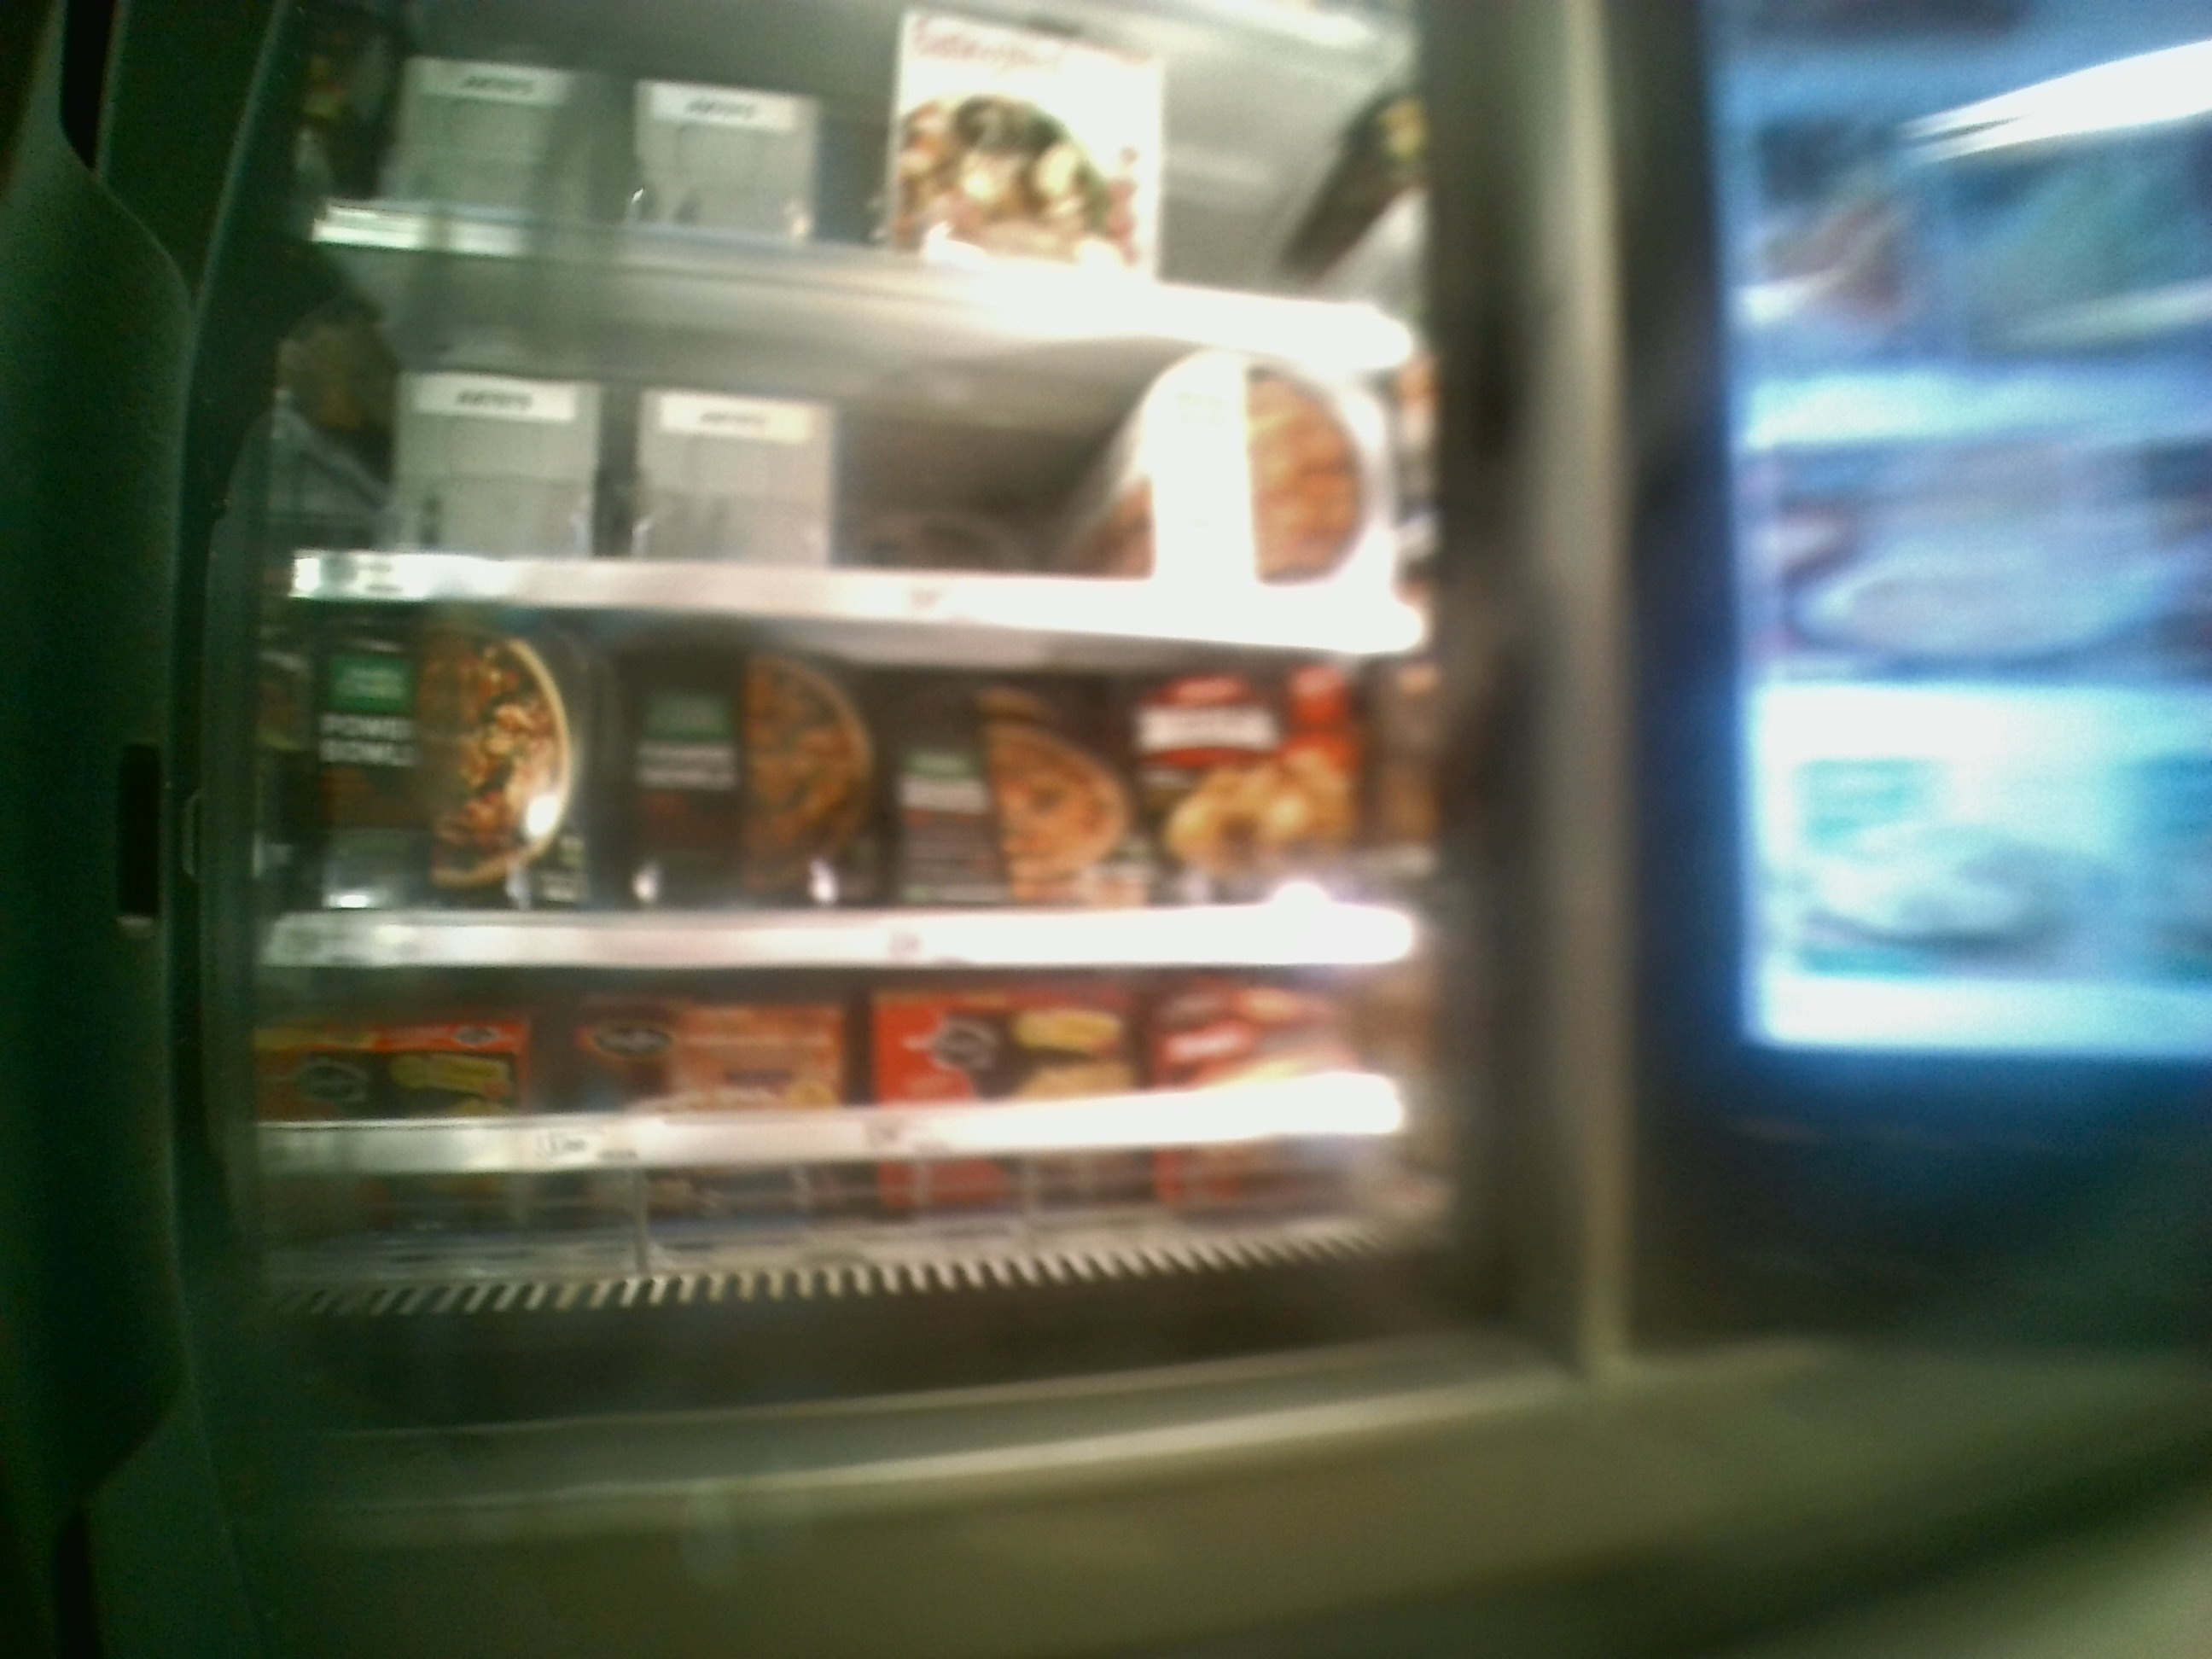Shelf: (249, 958, 1463, 1344), (258, 596, 1440, 958)
